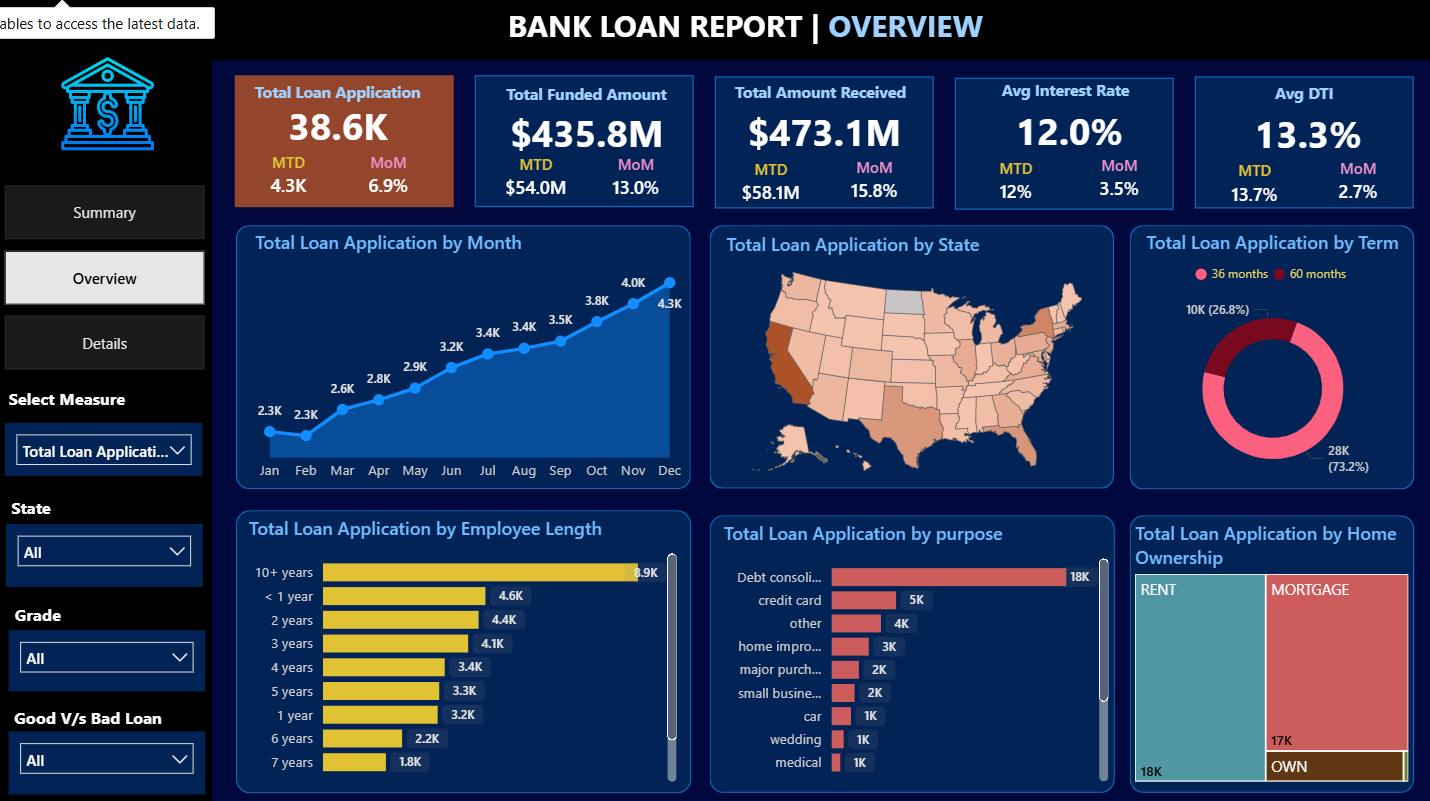

This screenshot's page, from the dashboard's own definition file:
{"tool":"powerbi","page":{"name":"Overview","canvas":[1280,720],"ordinal":1},"visuals":[{"type":"textbox","box":[855,66.2,195,32.5],"z":0,"group":"g9"},{"type":"textbox","box":[163.8,67.5,281.2,32.5],"z":0,"group":"g6"},{"type":"card","fields":{"Values":["Count(Bank Loan.id)"]},"box":[213.4,67.5,182,91.2],"z":0,"group":"g1"},{"type":"textbox","box":[636.2,67.5,195,32.5],"z":0,"group":"g8"},{"type":"textbox","box":[1067.5,68.8,195,32.5],"z":0,"group":"g10"},{"type":"card","fields":{"Values":["Measure Table.Avg Intrest Rate"]},"box":[881.3,69.1,151.2,95],"z":0,"group":"g2"},{"type":"textbox","box":[385,70,281.2,32.5],"z":0,"group":"g7"},{"type":"card","fields":{"Values":["Measure Table.Total Amount Received"]},"box":[662.5,70.4,151.2,95],"z":0,"group":"g3"},{"type":"card","fields":{"Values":["Measure Table.Avg DTI"]},"box":[1093.8,71.7,151.2,95],"z":0,"group":"g4"},{"type":"card","fields":{"Values":["Measure Table.Total Funded Amt"]},"box":[435.6,72.9,182.5,91.2],"z":0,"group":"g5"},{"type":"shape","box":[213.5,201.5,405,235],"z":0},{"type":"textbox","box":[5.1,340.1,115.5,35.3],"z":0,"group":"g15"},{"type":"textbox","box":[7,437.5,49.5,33.8],"z":0,"group":"g12"},{"type":"textbox","box":[191,471.8,153.2,33.8],"z":0,"group":"g11"},{"type":"textbox","box":[-0.3,533.5,74.8,33.8],"z":0,"group":"g13"},{"type":"textbox","box":[-0.3,624.8,164.1,35],"z":0,"group":"g14"},{"type":"shape","box":[0,0,1280,55],"z":1000},{"type":"group","id":"g1","title":"Group 2","box":[213.4,67.5,182,113.8],"z":1000,"group":"g6"},{"type":"group","id":"g2","title":"Group 2","box":[873.2,69.1,160.7,115.7],"z":1000,"group":"g9"},{"type":"group","id":"g3","title":"Group 2","box":[654.4,70.4,160.7,115.7],"z":1000,"group":"g8"},{"type":"group","id":"g4","title":"Group 2","box":[1085.7,71.7,160.7,115.7],"z":1000,"group":"g10"},{"type":"group","id":"g5","title":"Group 2","box":[435.6,72.9,182.5,110.8],"z":1000,"group":"g7"},{"type":"card","title":"MTD","fields":{"Values":["Bank Loan.Total MTD"]},"box":[224.9,135,71.3,46.2],"z":1000,"group":"g1"},{"type":"card","title":"MTD","fields":{"Values":["Measure Table.MTD Funded Amt"]},"box":[446.1,137.5,71.3,46.2],"z":1000,"group":"g5"},{"type":"card","title":"MTD","fields":{"Values":["Measure Table.MTD Avg Intrest Rate"]},"box":[873.2,139.8,71.2,45],"z":1000,"group":"g2"},{"type":"card","title":"MTD","fields":{"Values":["Measure Table.MTD Total Received Amt"]},"box":[654.4,141.1,71.2,45],"z":1000,"group":"g3"},{"type":"card","title":"MTD","fields":{"Values":["Measure Table.MTD Avg DTI"]},"box":[1085.7,142.4,71.2,45],"z":1000,"group":"g4"},{"type":"shape","box":[0,55,192.5,665],"z":2000},{"type":"card","title":"MoM","fields":{"Values":["Measure Table.MOM Loan Application"]},"box":[313.9,135,71.3,46.2],"z":2000,"group":"g1"},{"type":"card","title":"MoM","fields":{"Values":["Measure Table.MoM Funded Amt"]},"box":[535.2,137.5,71.3,46.2],"z":2000,"group":"g5"},{"type":"card","title":"MoM","fields":{"Values":["Measure Table.MoM Avg Intrest Rate"]},"box":[967.6,138.6,66.2,46.2],"z":2000,"group":"g2"},{"type":"card","title":"MoM","fields":{"Values":["Measure Table.MoM Total Received Amt"]},"box":[748.8,139.9,66.2,46.2],"z":2000,"group":"g3"},{"type":"card","title":"MoM","fields":{"Values":["Measure Table.MoM Avg DTI"]},"box":[1180.1,141.2,66.2,46.2],"z":2000,"group":"g4"},{"type":"textbox","box":[451.2,0,696.2,67.5],"z":3000},{"type":"shape","box":[212.5,67.5,195,117.5],"z":4000},{"type":"group","id":"g6","title":"Group 1","box":[163.8,67.5,281.2,113.8],"z":5000},{"type":"shape","box":[426.2,67.5,195,117.5],"z":6000},{"type":"group","id":"g7","title":"Group 1","box":[385,70,281.2,113.8],"z":7000},{"type":"shape","box":[640,68.8,195,117.5],"z":8000},{"type":"group","id":"g8","title":"Group 1","box":[636.2,67.5,195,118.6],"z":9000},{"type":"shape","box":[853.8,70,195,117.5],"z":10000},{"type":"group","id":"g9","title":"Group 1","box":[855,66.2,195,118.8],"z":11000},{"type":"shape","box":[1067.5,68.8,195,117.5],"z":12000},{"type":"group","id":"g10","title":"Group 1","box":[1067.5,68.8,195,118.8],"z":13000},{"type":"group","id":"g11","title":"Group 1","box":[191,471.8,153.2,33.8],"z":14000},{"type":"slicer","fields":{"Values":["Bank Loan.address_state"]},"box":[9.4,467.8,175.1,55.9],"z":15000},{"type":"group","id":"g12","title":"Group 1","box":[7,437.5,49.8,32.8],"z":16000},{"type":"slicer","fields":{"Values":["Bank Loan.grade"]},"box":[10.6,562.7,175.1,54.7],"z":17000},{"type":"group","id":"g13","title":"Group 1","box":[-0.3,533.5,75.4,34],"z":18000},{"type":"slicer","fields":{"Values":["Bank Loan.Good V/s Bad Loan"]},"box":[10.6,652.7,175.1,55.9],"z":19000},{"type":"group","id":"g14","title":"Group 1","box":[-0.3,624.8,164.1,35],"z":20000},{"type":"areaChart","fields":{"Y":["Measure Table.Total Loan Application"],"Category":["Date Table.Month"]},"box":[225.6,205.1,392.1,232.8],"z":21000},{"type":"slicer","fields":{"Values":["Select Measure.Select Measure"]},"box":[8.2,377.9,176.3,47.4],"z":22000},{"type":"group","id":"g15","title":"Group 1","box":[5.1,340.1,115.5,35.3],"z":23000},{"type":"shape","box":[635.9,201.8,360,234.7],"z":24000},{"type":"shapeMap","fields":{"Value":["Measure Table.Total Loan Application"],"Category":["Bank Loan.address_state"]},"box":[645.4,207.5,349.9,228],"z":25000},{"type":"shape","box":[1009.8,201.5,253.4,235.3],"z":26000},{"type":"donutChart","fields":{"Y":["Measure Table.Total Loan Application"],"Category":["Bank Loan.term"]},"box":[1019.4,205.1,235.3,235.3],"z":27000},{"type":"shape","box":[213.5,454.8,405.4,252.1],"z":28000},{"type":"barChart","fields":{"Y":["Measure Table.Total Loan Application"],"Category":["Bank Loan.emp_length"]},"box":[220.8,459.7,390.9,242.5],"z":29000},{"type":"shape","box":[635.8,459.7,360.7,247.3],"z":30000},{"type":"barChart","fields":{"Y":["Measure Table.Total Loan Application"],"Category":["Bank Loan.purpose"]},"box":[643,464.5,352.3,237.7],"z":31000},{"type":"shape","box":[1009.8,459.7,253.4,247.3],"z":32000},{"type":"treemap","fields":{"Values":["Measure Table.Total Loan Application"],"Group":["Bank Loan.home_ownership"]},"box":[1009.8,464.5,253.4,237.7],"z":33000},{"type":"pageNavigator","box":[7.5,166.2,178.8,165],"z":34000},{"type":"image","box":[43.8,45,111.2,97.5],"z":35000}]}

Visuals, with their boxes on the page's 1280x720 design canvas (x1, y1, x2, y2). These are canvas units, not pixel positions in the 1430x801 screenshot, which may show the page scaled, cropped or inside an application window:
textbox: 855,66,1050,99
textbox: 164,68,445,100
card - Count(Bank Loan.id): 213,68,395,159
textbox: 636,68,831,100
textbox: 1068,69,1262,101
card - Measure Table.Avg Intrest Rate: 881,69,1032,164
textbox: 385,70,666,102
card - Measure Table.Total Amount Received: 662,70,814,165
card - Measure Table.Avg DTI: 1094,72,1245,167
card - Measure Table.Total Funded Amt: 436,73,618,164
shape: 214,202,618,436
textbox: 5,340,121,375
textbox: 7,438,56,471
textbox: 191,472,344,506
textbox: 0,534,74,567
textbox: 0,625,164,660
shape: 0,0,1280,55
"Group 2" group: 213,68,395,181
"Group 2" group: 873,69,1034,185
"Group 2" group: 654,70,815,186
"Group 2" group: 1086,72,1246,187
"Group 2" group: 436,73,618,184
"MTD" card: 225,135,296,181
"MTD" card: 446,138,517,184
"MTD" card: 873,140,944,185
"MTD" card: 654,141,726,186
"MTD" card: 1086,142,1157,187
shape: 0,55,192,720
"MoM" card: 314,135,385,181
"MoM" card: 535,138,606,184
"MoM" card: 968,139,1034,185
"MoM" card: 749,140,815,186
"MoM" card: 1180,141,1246,187
textbox: 451,0,1147,68
shape: 212,68,408,185
"Group 1" group: 164,68,445,181
shape: 426,68,621,185
"Group 1" group: 385,70,666,184
shape: 640,69,835,186
"Group 1" group: 636,68,831,186
shape: 854,70,1049,188
"Group 1" group: 855,66,1050,185
shape: 1068,69,1262,186
"Group 1" group: 1068,69,1262,188
"Group 1" group: 191,472,344,506
slicer - Bank Loan.address_state: 9,468,184,524
"Group 1" group: 7,438,57,470
slicer - Bank Loan.grade: 11,563,186,617
"Group 1" group: 0,534,75,568
slicer - Bank Loan.Good V/s Bad Loan: 11,653,186,709
"Group 1" group: 0,625,164,660
areaChart - Measure Table.Total Loan Application x Date Table.Month: 226,205,618,438
slicer - Select Measure.Select Measure: 8,378,184,425
"Group 1" group: 5,340,121,375
shape: 636,202,996,436
shapeMap - Measure Table.Total Loan Application x Bank Loan.address_state: 645,208,995,436
shape: 1010,202,1263,437
donutChart - Measure Table.Total Loan Application x Bank Loan.term: 1019,205,1255,440
shape: 214,455,619,707
barChart - Measure Table.Total Loan Application x Bank Loan.emp_length: 221,460,612,702
shape: 636,460,996,707
barChart - Measure Table.Total Loan Application x Bank Loan.purpose: 643,464,995,702
shape: 1010,460,1263,707
treemap - Measure Table.Total Loan Application x Bank Loan.home_ownership: 1010,464,1263,702
pageNavigator: 8,166,186,331
image: 44,45,155,142
